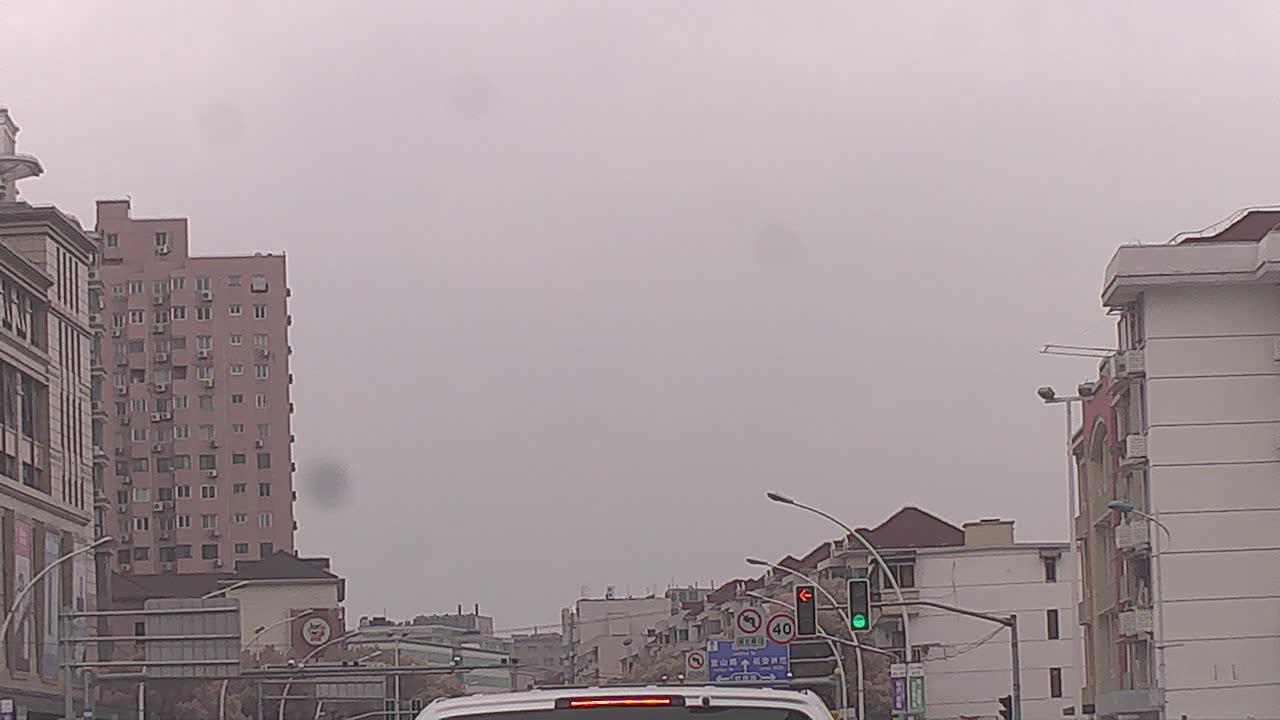traffic_light: (796, 584, 823, 640), (848, 577, 872, 635)
